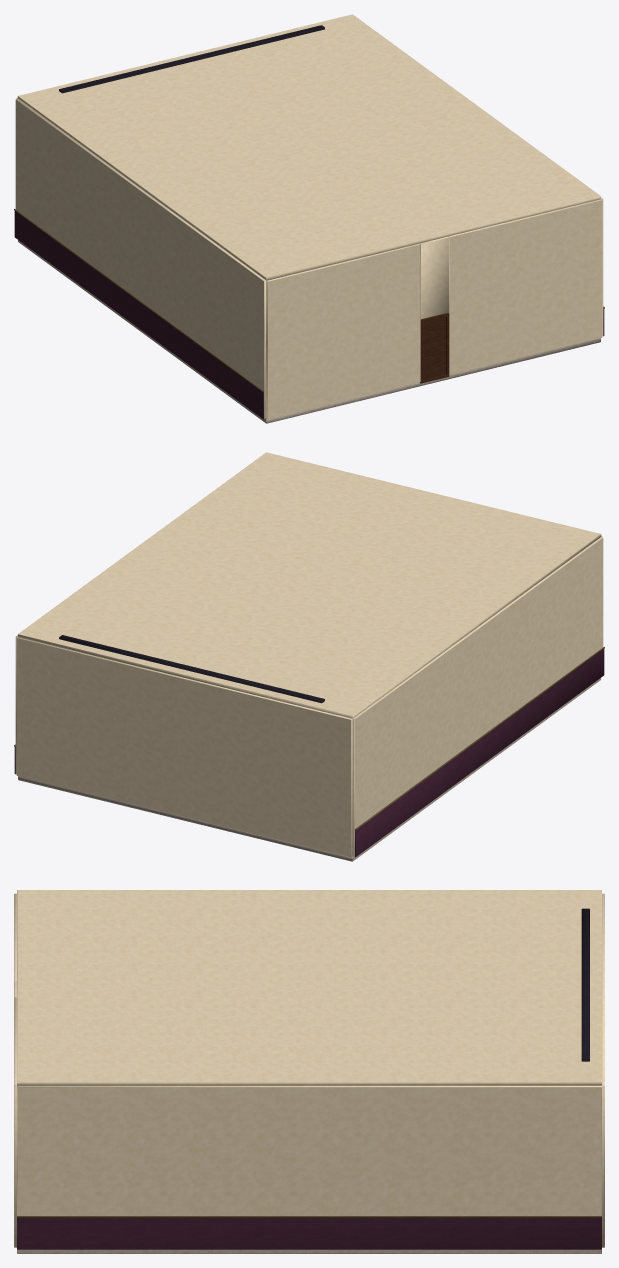
Rendered from explore3d__screening_room.glb.
3 views of the same model, one above another, from view 1: azimuth 30°, elevation 25°; view 2: azimuth 150°, elevation 25°; view 3: azimuth 270°, elevation 25° (orthographic). The views are drawn at different scales.
Parts seen in each view (by area): view 1: Rebuilt_screening_room; view 2: Rebuilt_screening_room; view 3: Rebuilt_screening_room.
Boxes of the visible parts, bbox=[...] form: Rebuilt_screening_room: bbox=[14, 14, 604, 423]; Rebuilt_screening_room: bbox=[14, 452, 604, 861]; Rebuilt_screening_room: bbox=[14, 890, 604, 1253].
Size of the model in its own units: 14.32 by 5.92 by 18.19.
14 materials, 13 textured.
